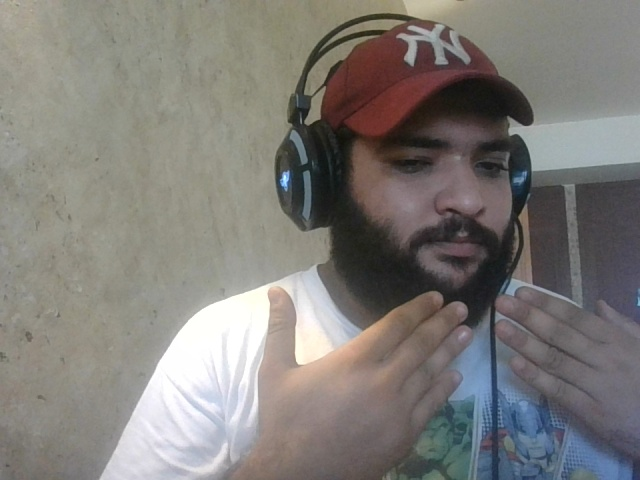thanks: (246, 288, 640, 473)
